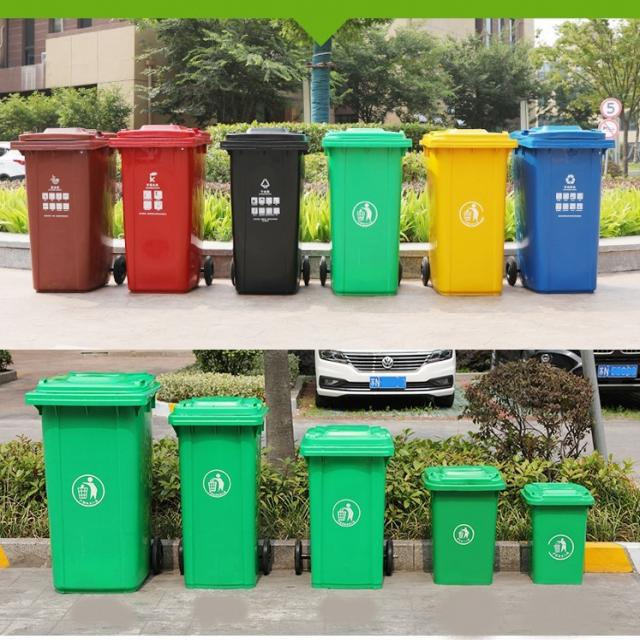ash bin: (21, 370, 167, 594), (167, 392, 275, 588), (10, 125, 121, 293), (508, 122, 616, 293), (111, 122, 214, 293), (292, 422, 395, 588), (418, 126, 518, 296), (317, 126, 415, 296), (218, 124, 310, 294), (422, 462, 506, 584), (521, 482, 595, 584)
car: (308, 349, 457, 408)
